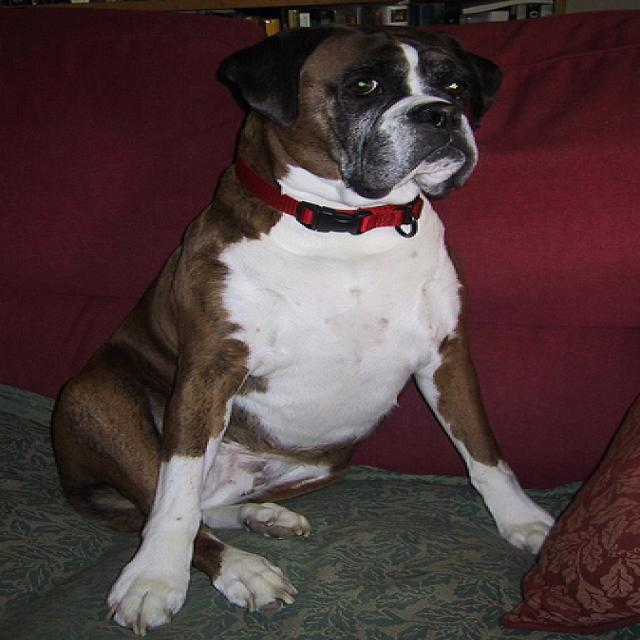dog-boxer: (34, 10, 570, 637)
